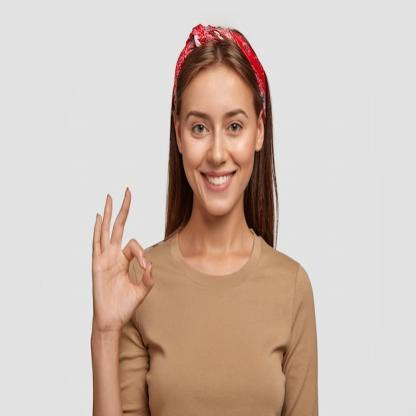ok: (90, 184, 158, 330)
